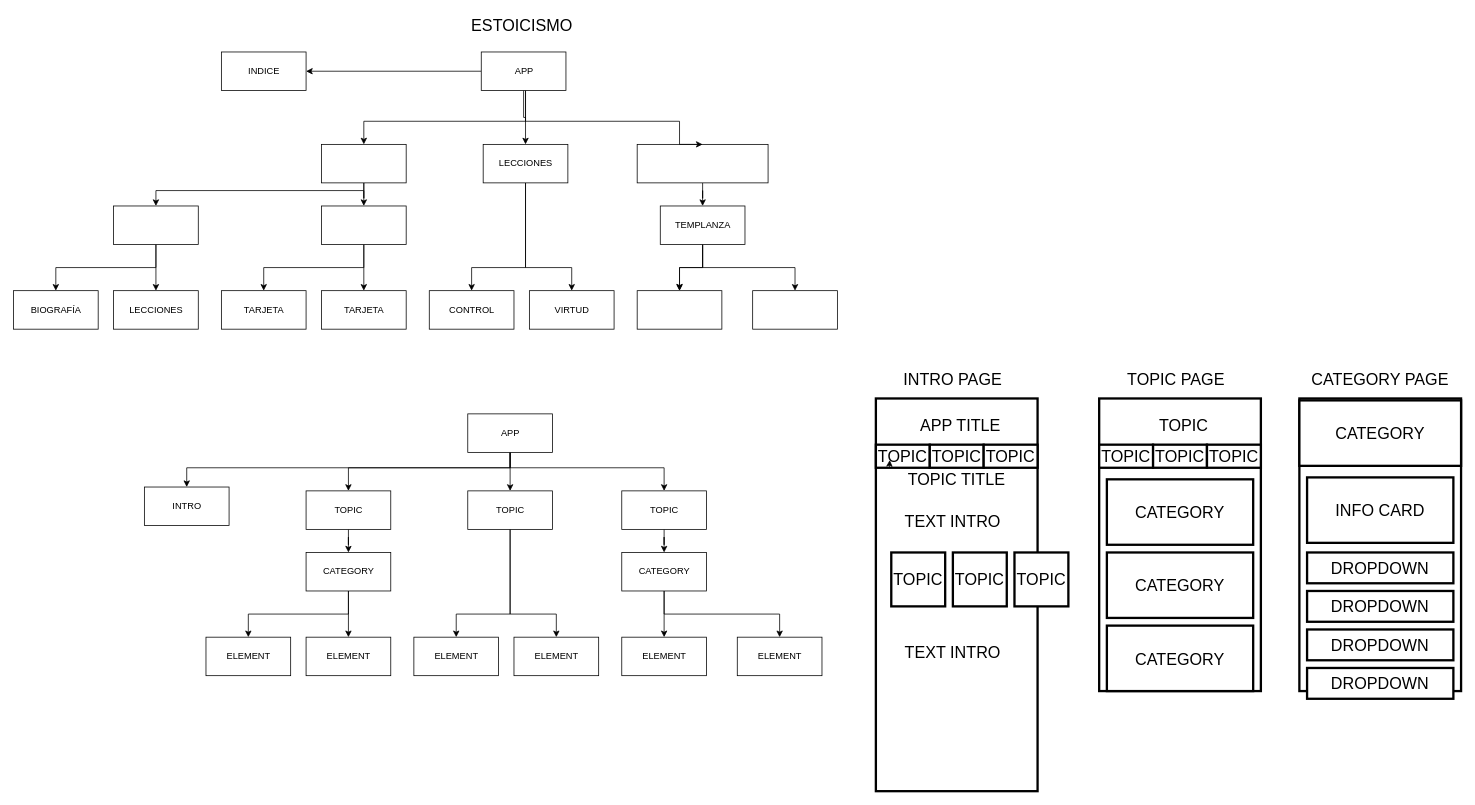
Some shapes in this 1475 by 805 pixel diagram are drawn without their labels. Here are the shapes that lost their labels. From the top down, the centre of each, then its label:
the point at 363,163: FIGURAS
the point at 702,163: EJERCICIOS PRÁCTICOS
the point at 155,224: SÉNECA
the point at 363,224: MARCO AURELIO
the point at 679,309: EJERCICIO
the point at 794,309: PÁCTICA
